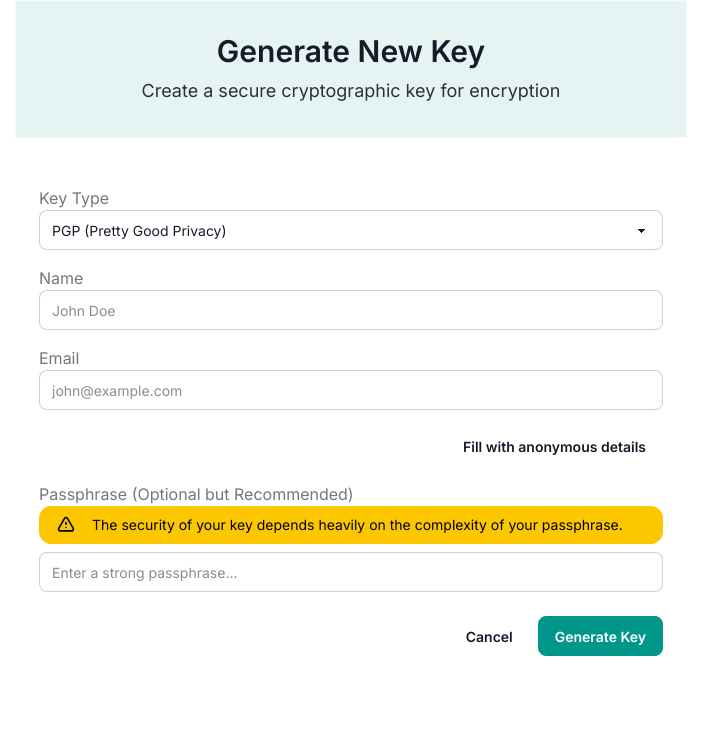
Test: GenerateKey › handles generation errors
Type "Test User" into the field labelled "Name".
click(351, 310); type("Test User")  # box top-left (39, 290), bottom-right (663, 330)
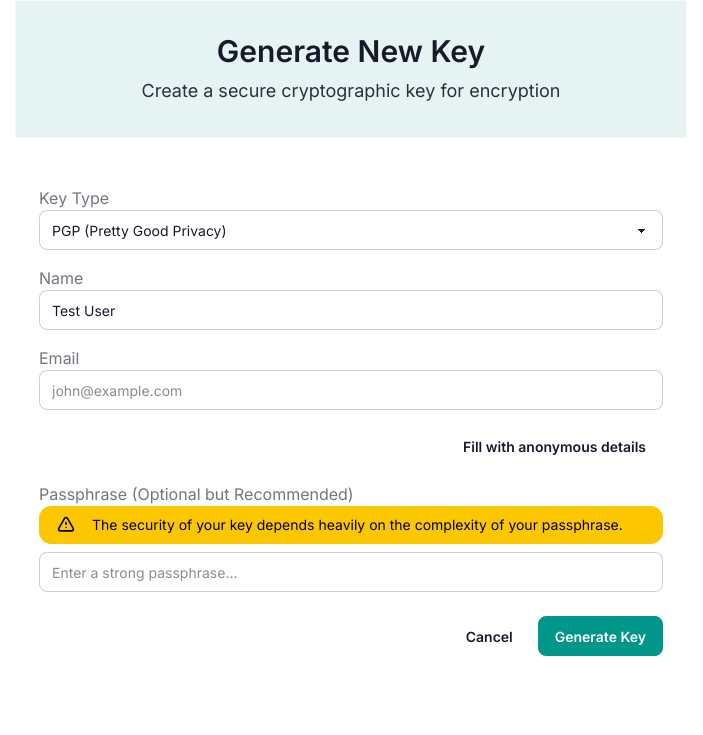
Type "test@example.com" into the field labelled "Email".
click(351, 390); type("test@example.com")  # box top-left (39, 370), bottom-right (663, 410)
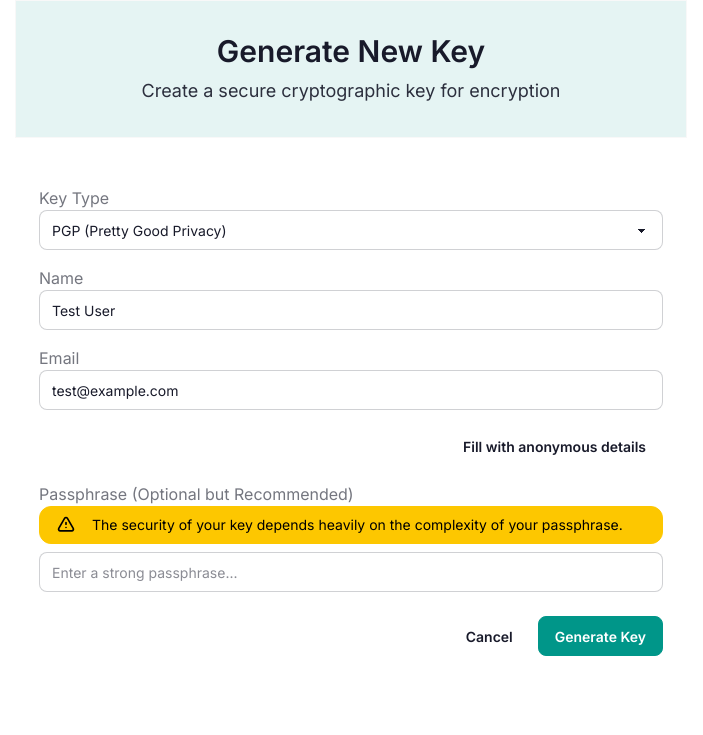
Click the button "Generate Key".
click(600, 636)  # box top-left (538, 616), bottom-right (663, 656)
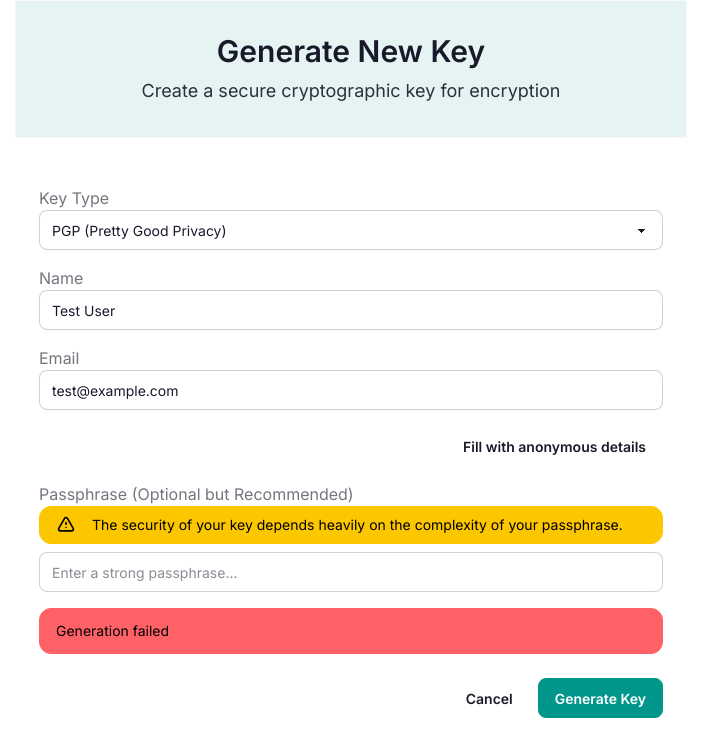
Expected: the text "Generation failed" is shown, top-left (56, 621), bottom-right (169, 641)
